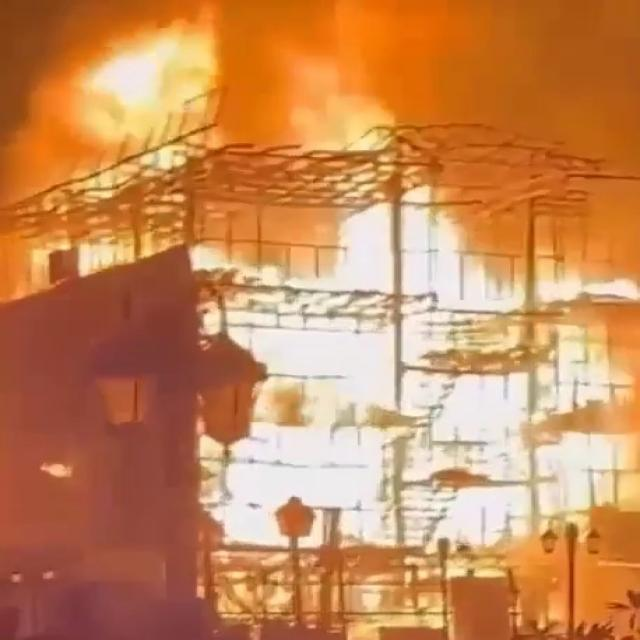Fire: (200, 191, 615, 551), (78, 34, 173, 138)
